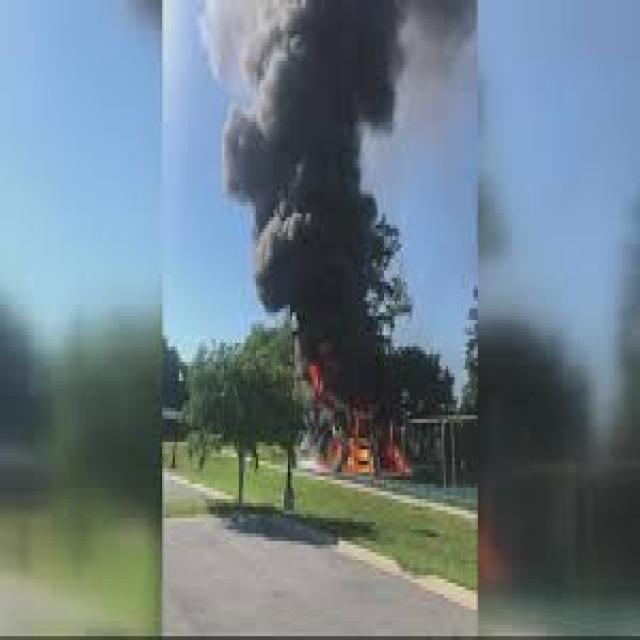fire: (221, 11, 423, 476)
